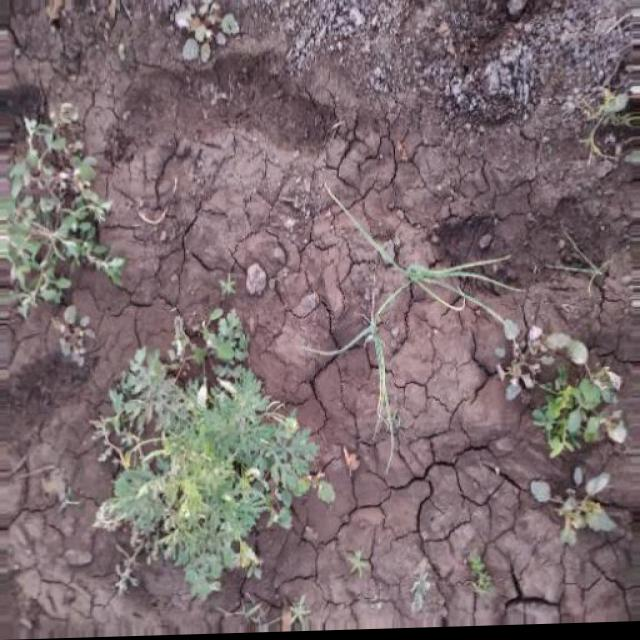weed: (96, 346, 319, 590), (504, 323, 630, 557), (2, 118, 102, 361)
